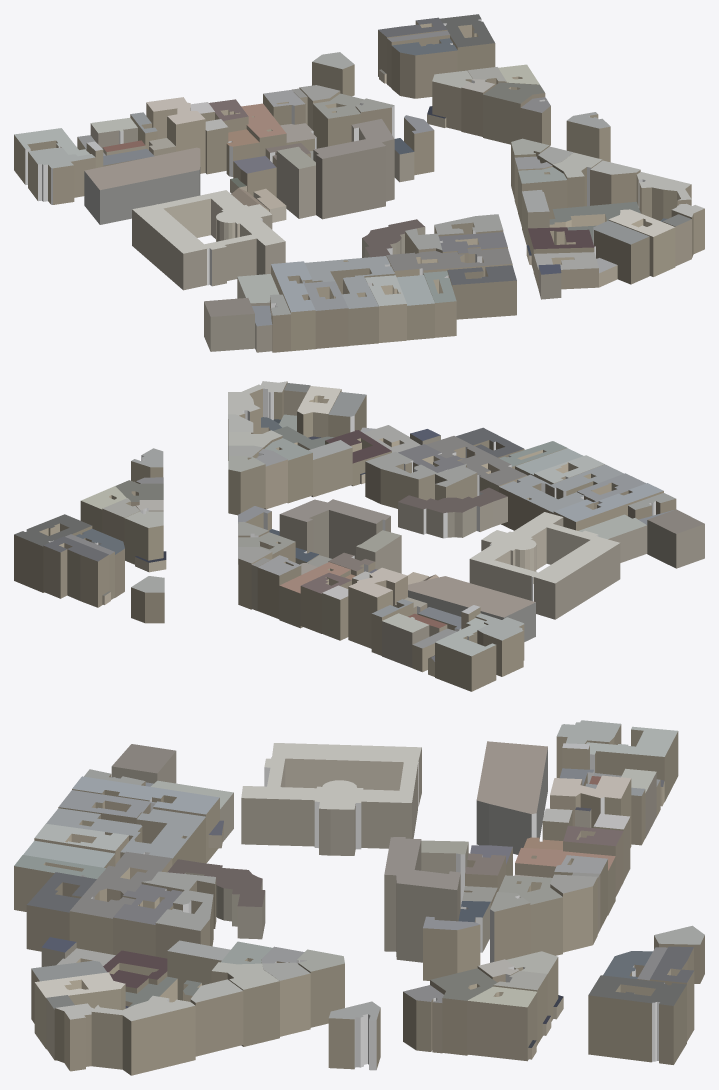
3 renders of one model, top to bottom at view 1: azimuth 30°, elevation 25°; view 2: azimuth 150°, elevation 25°; view 3: azimuth 270°, elevation 25°, orthographic. The views are drawn at different scales.
Parts seen in each view (by area): view 1: tuile; view 2: tuile; view 3: tuile.
Boxes of the visible parts, x1,y1,x2,y2 form: tuile: (14,14,704,352); tuile: (14,381,704,691); tuile: (14,720,704,1075).
Size of the model in its own units: 267 by 38.36 by 261.
